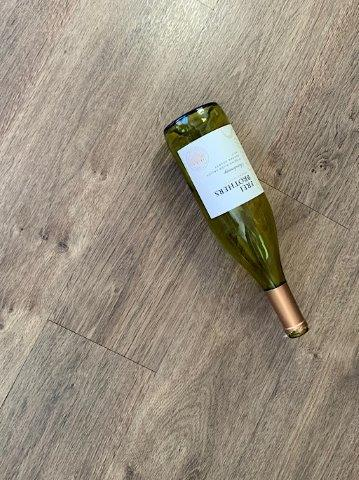botolkaca: (163, 101, 309, 337)
